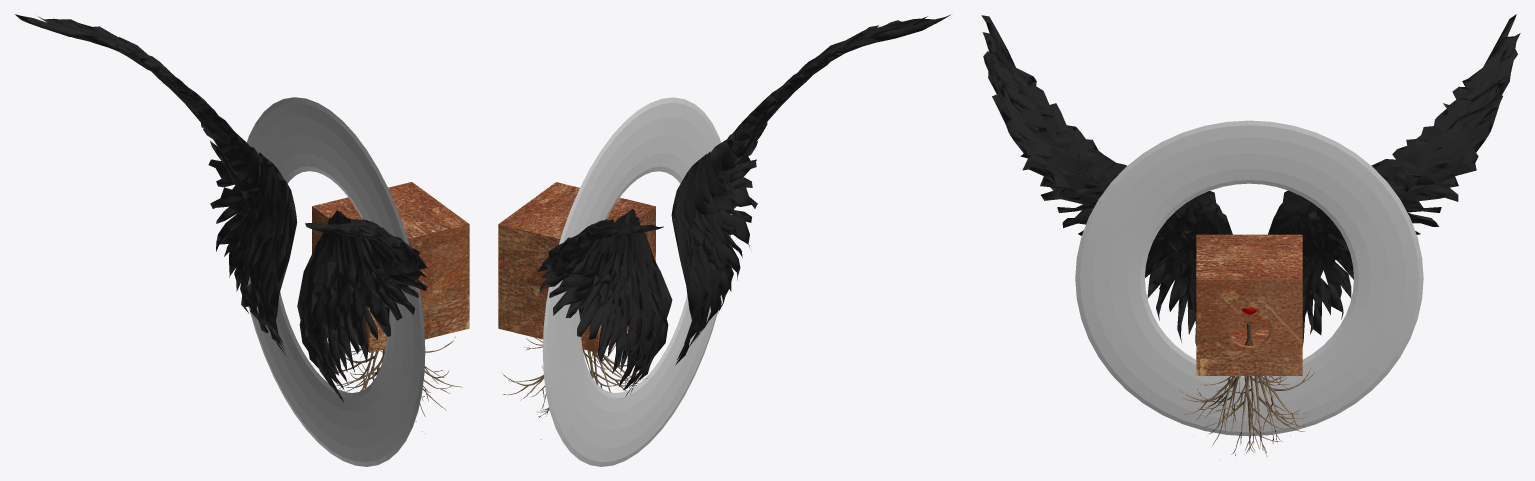
Rendered from Boss.gltf.
3 views of the same model, side by side, from view 1: azimuth 30°, elevation 25°; view 2: azimuth 150°, elevation 25°; view 3: azimuth 270°, elevation 25° (orthographic). The views are drawn at different scales.
Visible parts, largest first — view 1: wing_low, Torus, Sphere, tree; view 2: wing_low, Torus, Sphere, tree; view 3: Torus, wing_low, Sphere, tree.
Part boxes in pixels (x1,y1,x2,y2): wing_low: (15,14,429,402); Torus: (237,97,425,466); Sphere: (312,182,469,352); tree: (316,336,462,433); wing_low: (537,14,950,396); Torus: (542,97,731,466); Sphere: (498,182,655,352); tree: (502,337,648,439); Torus: (1075,120,1423,436); wing_low: (981,14,1520,346); Sphere: (1196,234,1302,375); tree: (1179,322,1314,460).
Size of the model in its own units: 33.15 by 41.06 by 58.16.
4 materials, 2 textured.
